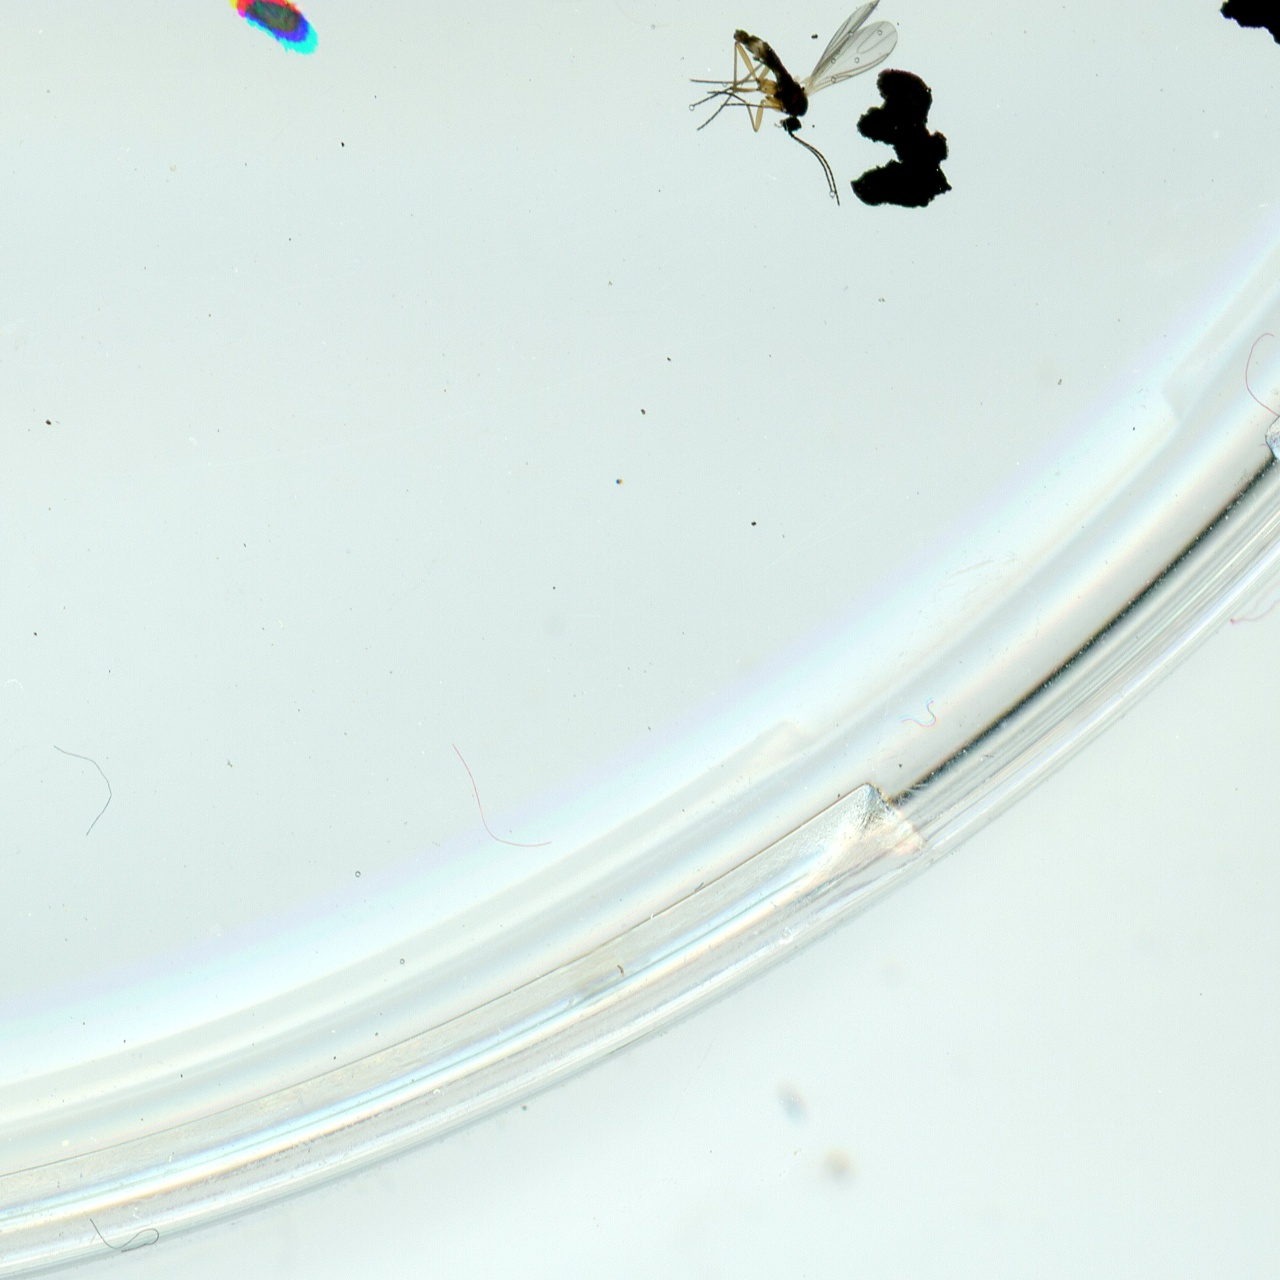arthropod: (678, 0, 906, 209), (218, 0, 319, 60)
